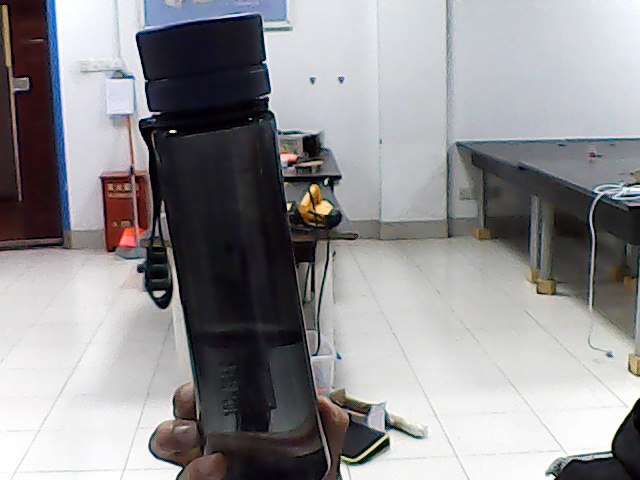cup: (258, 269, 294, 474)
